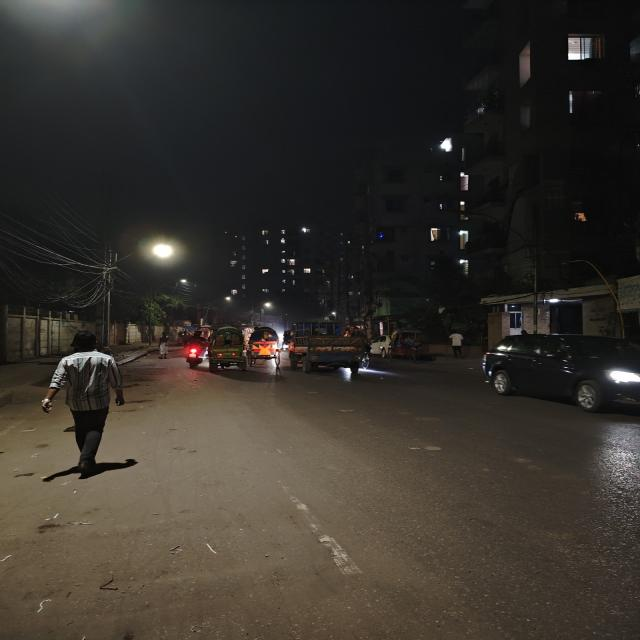car: (481, 328, 640, 422)
motorcycle: (176, 329, 212, 369)
pedestrian: (36, 330, 130, 476), (448, 328, 466, 359)
pickup_van: (285, 320, 373, 380)
rickshaw: (206, 324, 250, 372), (378, 326, 435, 362), (242, 326, 283, 362)
